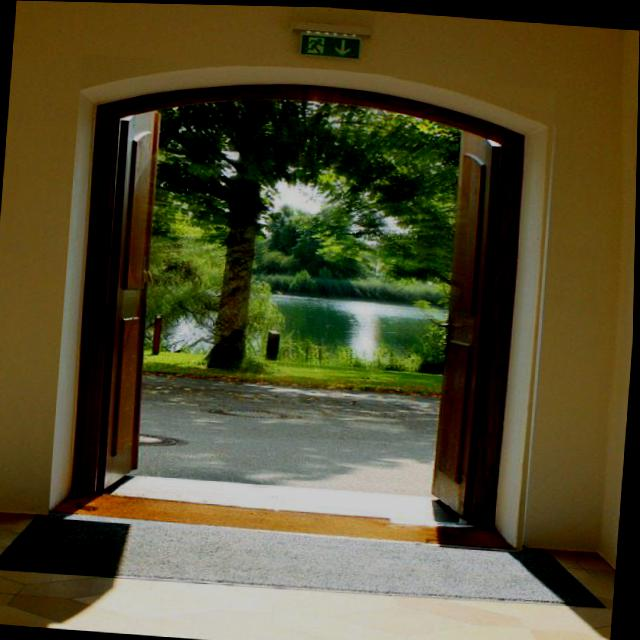open: (50, 54, 559, 552)
